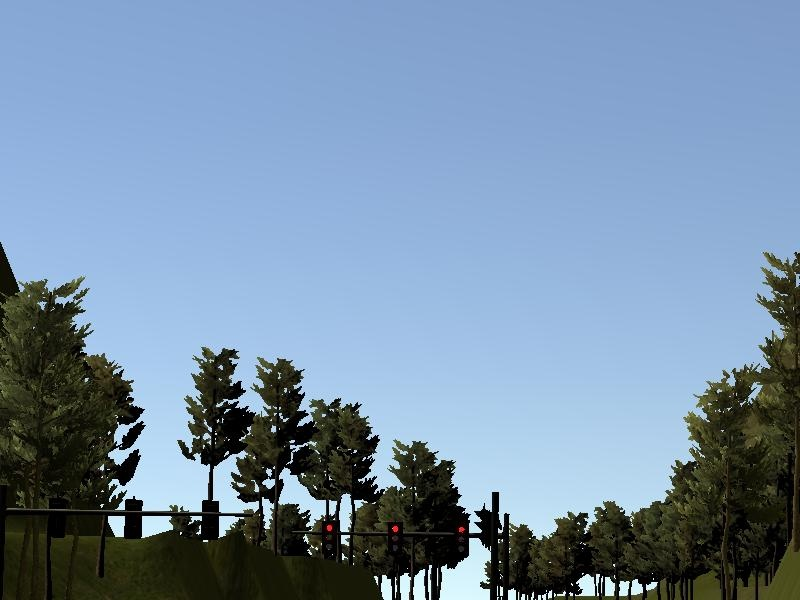traffic_light_red: (310, 521, 489, 559)
